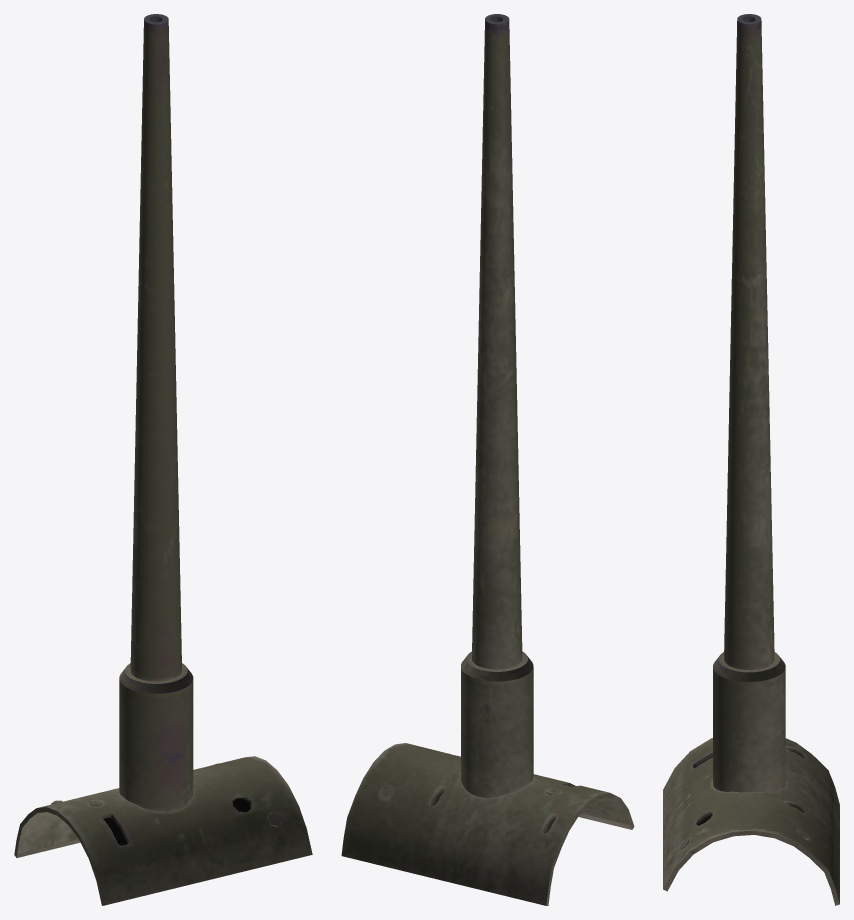
Rendered from Gun_02.glb.
3 renders of one model, left to right at view 1: azimuth 30°, elevation 25°; view 2: azimuth 150°, elevation 25°; view 3: azimuth 270°, elevation 25°, orthographic.
Parts seen in each view (by area): view 1: set_0_group_0; view 2: set_0_group_0; view 3: set_0_group_0.
Part boxes in pixels (left/top/right/bottom): set_0_group_0: left=14, top=14, right=312, bottom=905; set_0_group_0: left=341, top=14, right=634, bottom=905; set_0_group_0: left=663, top=14, right=839, bottom=905.
Bounding box in the file's own units: 0.4786 × 1.86 × 0.3576.
Materials: 1 (1 with a texture image).
